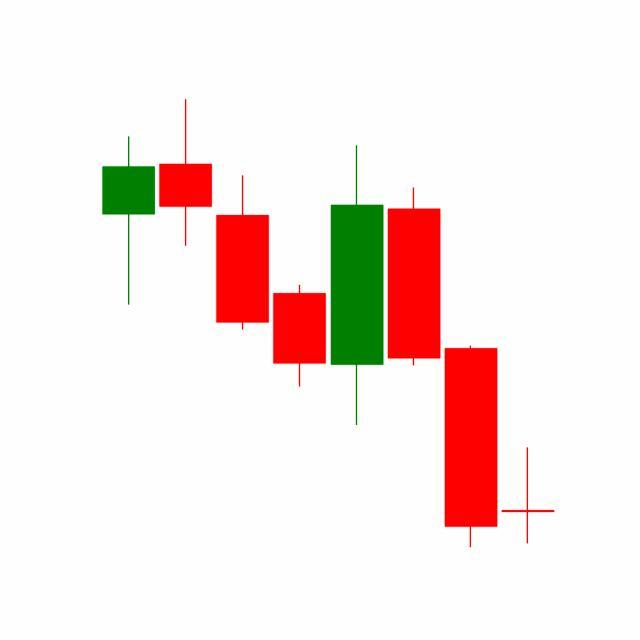Hikkake Pattern: (214, 141, 501, 548)
